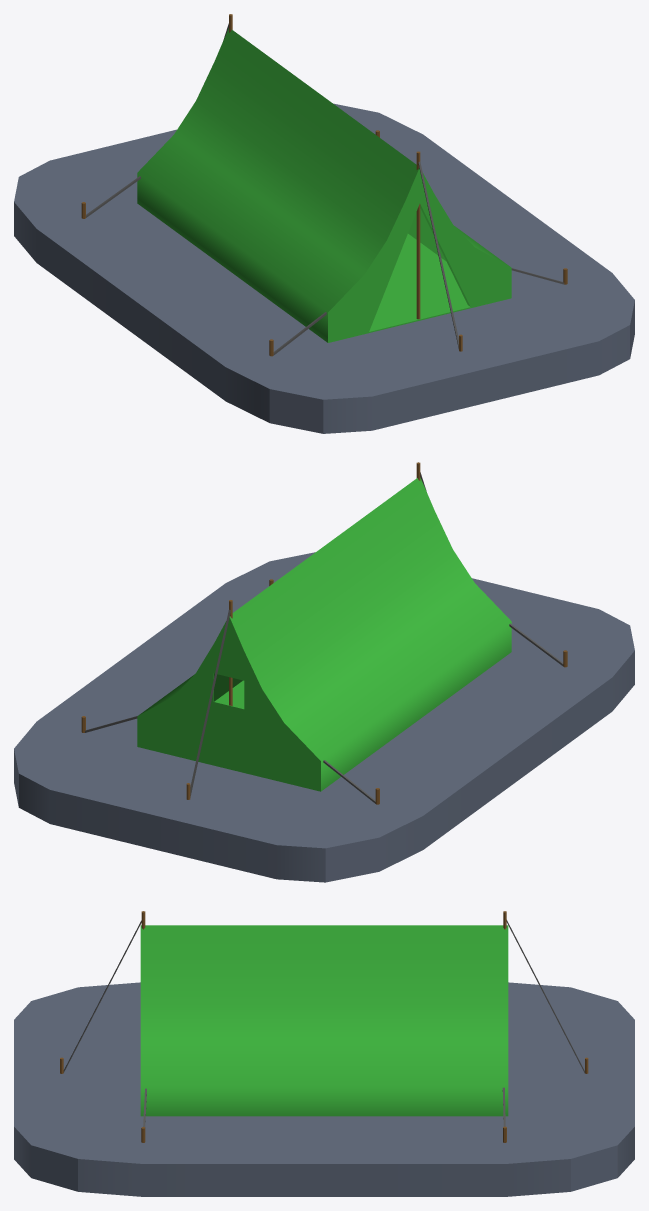
The model's file is Tent_Green.fbx.
The picture shows the model from 3 angles, top to bottom: view 1: azimuth 30°, elevation 25°; view 2: azimuth 150°, elevation 25°; view 3: azimuth 270°, elevation 25°; orthographic projection. The views are drawn at different scales.
Parts seen in each view (by area): view 1: Tent; view 2: Tent; view 3: Tent.
Boxes of the visible parts, x1=… form: Tent: x1=14, y1=14, x2=634, y2=433; Tent: x1=14, y1=462, x2=634, y2=882; Tent: x1=14, y1=911, x2=634, y2=1196.
Size of the model in its own units: 10.53 by 5.24 by 15.2.
